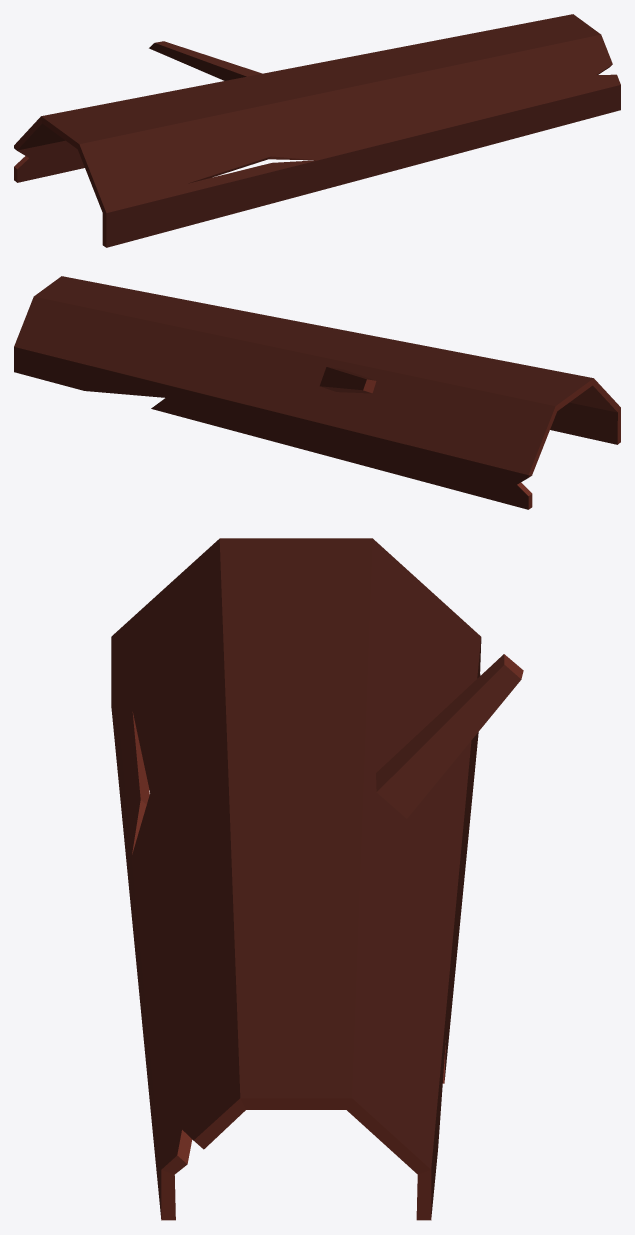
File: Log_4_Red.fbx
The picture shows the model from 3 angles, top to bottom: view 1: azimuth 30°, elevation 25°; view 2: azimuth 150°, elevation 25°; view 3: azimuth 270°, elevation 25°; orthographic projection. The views are drawn at different scales.
Visible parts, largest first — view 1: Log_4_Red; view 2: Log_4_Red; view 3: Log_4_Red.
Boxes of the visible parts, x1,y1,x2,y2 form: Log_4_Red: (14, 14, 620, 247); Log_4_Red: (14, 276, 620, 509); Log_4_Red: (111, 538, 523, 1220).
Bounding box in the file's own units: 250 × 44.2 × 84.71.
